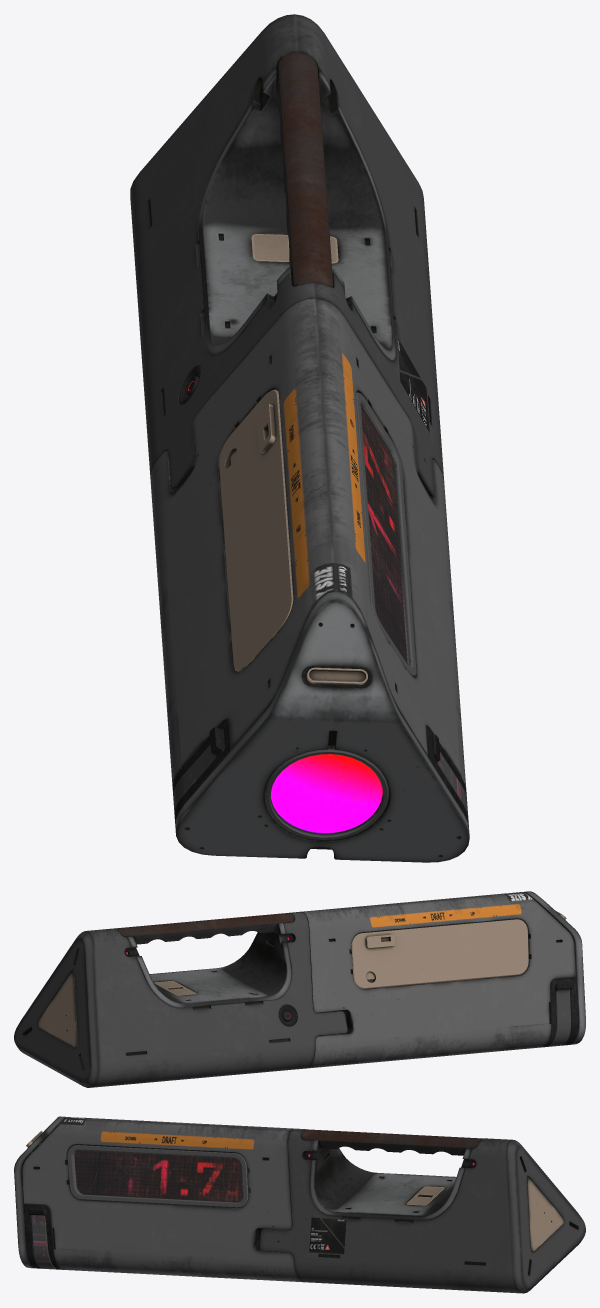
File: landing.glb
3 renders of one model, top to bottom at view 1: azimuth 30°, elevation 25°; view 2: azimuth 150°, elevation 25°; view 3: azimuth 270°, elevation 25°, orthographic. The views are drawn at different scales.
Parts seen in each view (by area): view 1: gun.002_low, gun.001_low, gun.007_low, gun.003_low, gun.005_low, gun.016_low, gun_low, gun.006_low, gun.004_low, gun.008_low, gun.012_low, gun.009_low (+1 smaller); view 2: gun.001_low, gun.002_low, gun.005_low, gun.003_low, gun.016_low, gun.015_low, gun.007_low, gun.008_low, gun.009_low, gun.010_low, gun.011_low; view 3: gun.002_low, gun.001_low, gun.006_low, gun.003_low, gun.016_low, gun.004_low, gun.015_low, gun.007_low, gun.008_low, gun.009_low, gun.010_low.
Boxes of the visible parts, <box> form: gun.002_low: <box>150,298,466,792</box>; gun.001_low: <box>130,14,444,503</box>; gun.007_low: <box>175,591,469,862</box>; gun.003_low: <box>198,67,395,360</box>; gun.005_low: <box>219,389,293,671</box>; gun.016_low: <box>276,52,333,287</box>; gun_low: <box>271,754,382,833</box>; gun.006_low: <box>361,407,407,663</box>; gun.004_low: <box>356,392,416,677</box>; gun.008_low: <box>173,719,468,849</box>; gun.012_low: <box>264,745,388,839</box>; gun.009_low: <box>173,744,468,817</box>; gun.001_low: <box>14,911,347,1087</box>; gun.002_low: <box>283,892,575,1068</box>; gun.005_low: <box>350,919,528,988</box>; gun.003_low: <box>127,923,291,1007</box>; gun.016_low: <box>114,913,294,944</box>; gun.015_low: <box>37,970,77,1047</box>; gun.007_low: <box>524,891,585,1044</box>; gun.008_low: <box>542,976,578,1047</box>; gun.009_low: <box>547,989,571,1046</box>; gun.010_low: <box>154,981,196,995</box>; gun.011_low: <box>278,1005,296,1026</box>; gun.002_low: <box>21,1117,313,1282</box>; gun.001_low: <box>259,1128,585,1293</box>; gun.006_low: <box>74,1151,241,1202</box>; gun.003_low: <box>310,1140,471,1220</box>; gun.016_low: <box>301,1129,483,1155</box>; gun.004_low: <box>67,1145,248,1207</box>; gun.015_low: <box>527,1176,564,1252</box>; gun.007_low: <box>14,1116,65,1268</box>; gun.008_low: <box>23,1203,63,1269</box>; gun.009_low: <box>31,1215,58,1269</box>; gun.010_low: <box>406,1186,444,1205</box>.
Bounding box in the file's own units: 0.3744 × 0.2204 × 0.5489.
1 material, 1 textured.
